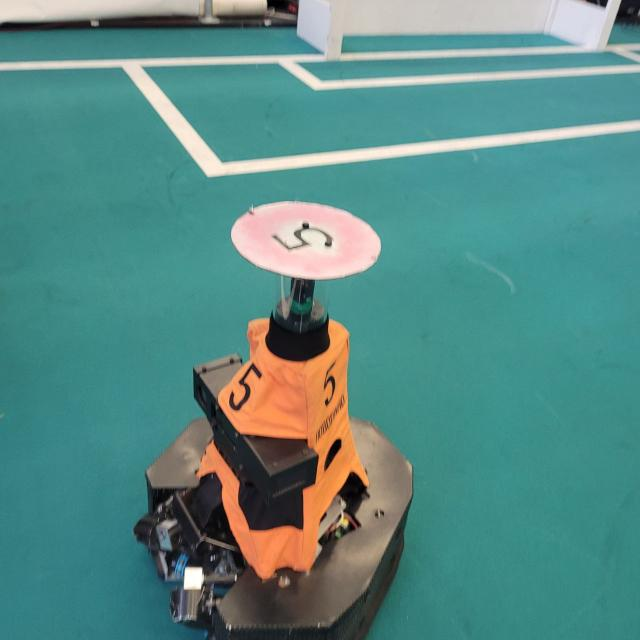robot: (129, 184, 449, 640)
